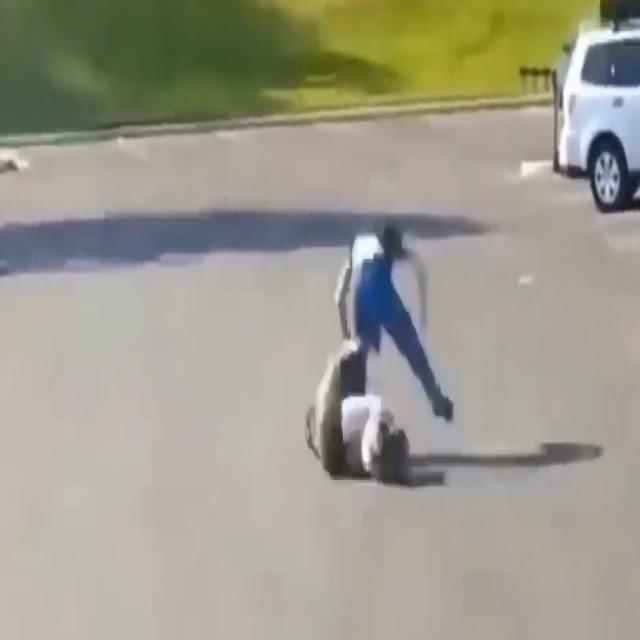fight: (308, 177, 474, 502)
